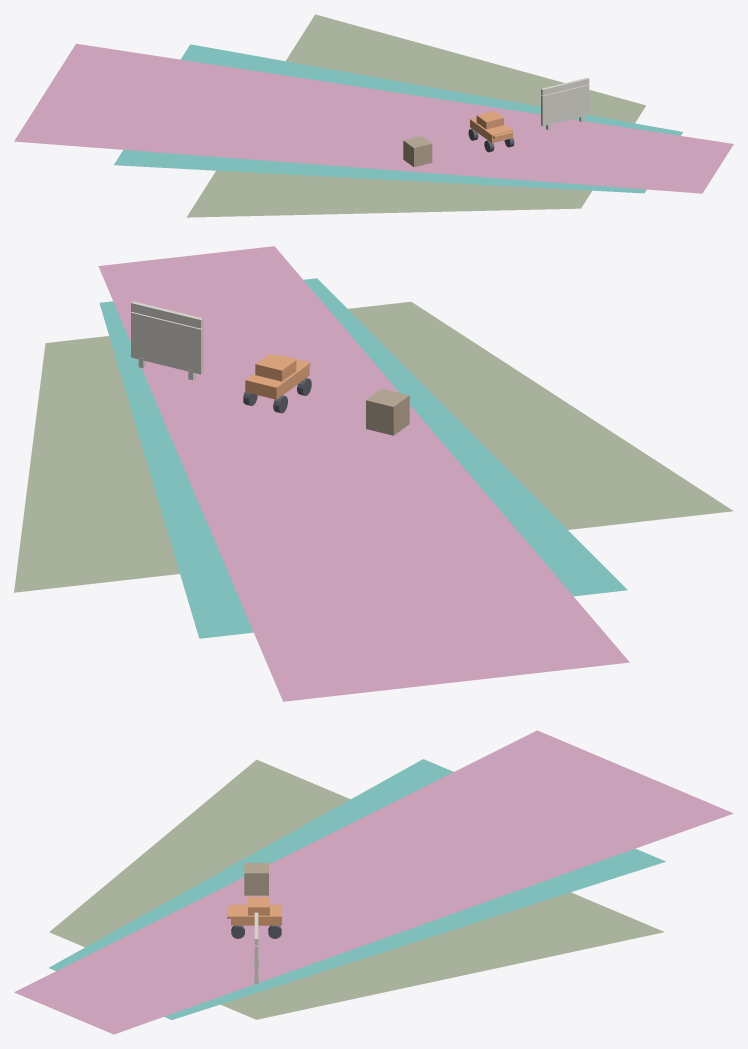
The model's file is scale-reference.glb.
The picture shows the model from 3 angles, top to bottom: view 1: azimuth 30°, elevation 25°; view 2: azimuth 150°, elevation 25°; view 3: azimuth 270°, elevation 25°; orthographic projection. The views are drawn at different scales.
Parts seen in each view (by area): view 1: frame-portrait-9x19_5, frame-landscape-16x9, frame-portrait-3x4, board-stack, car-chassis, terrain-cell; view 2: frame-portrait-9x19_5, frame-landscape-16x9, frame-portrait-3x4, board-stack, car-chassis, terrain-cell; view 3: frame-portrait-9x19_5, frame-landscape-16x9, frame-portrait-3x4, car-chassis, terrain-cell.
Part boxes in pixels (x1,y1,x2,y2): frame-portrait-9x19_5: (14,43,733,193); frame-landscape-16x9: (186,14,645,217); frame-portrait-3x4: (114,44,682,193); board-stack: (541,77,589,130); car-chassis: (470,111,513,142); terrain-cell: (403,136,432,166); frame-portrait-9x19_5: (98,246,629,701); frame-landscape-16x9: (14,301,733,592); frame-portrait-3x4: (99,278,627,638); board-stack: (131,301,203,380); car-chassis: (245,353,310,399); terrain-cell: (366,388,409,435); frame-portrait-9x19_5: (14,730,733,1034); frame-landscape-16x9: (49,759,664,1019); frame-portrait-3x4: (49,759,665,1019); car-chassis: (227,897,281,925); terrain-cell: (244,863,268,895).
Size of what is drawn, in the model's own units: 43.76 by 3.23 by 43.76.
